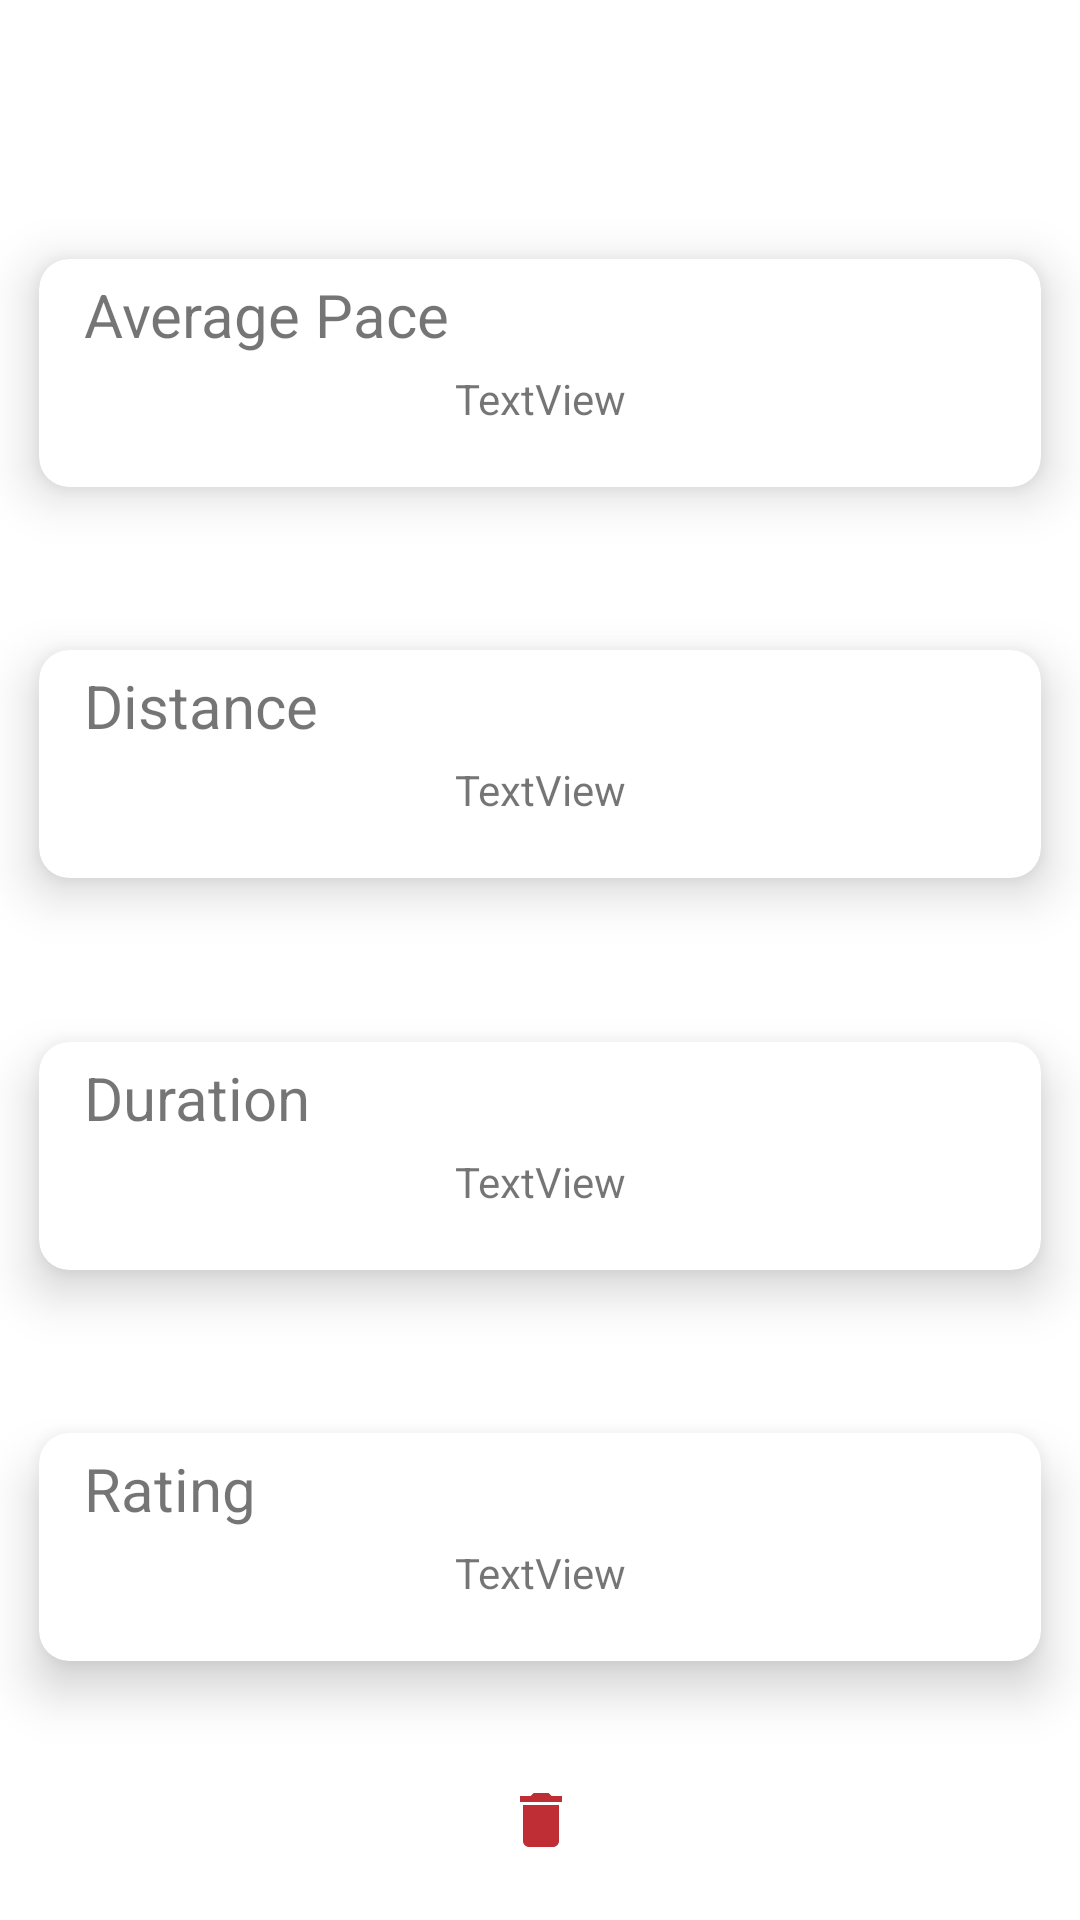

Icon click points for this 1080 x 1920 phone screenshot, format [x,y]:
delete: [541,1820]
